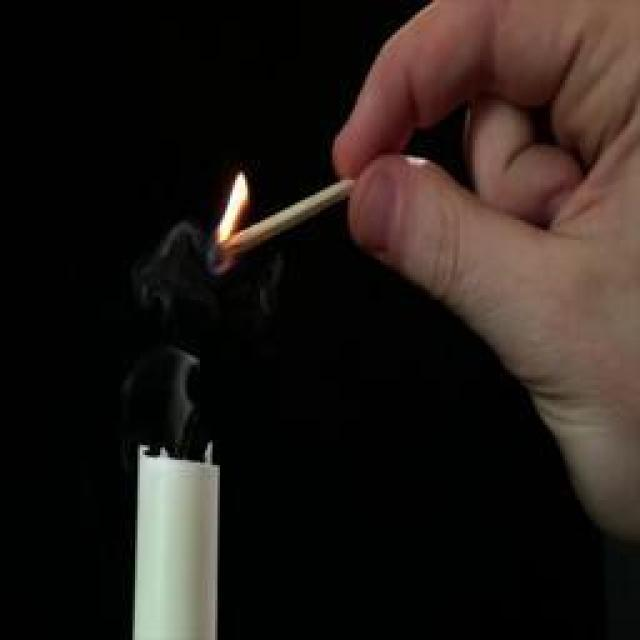Fire: (215, 171, 250, 244)
